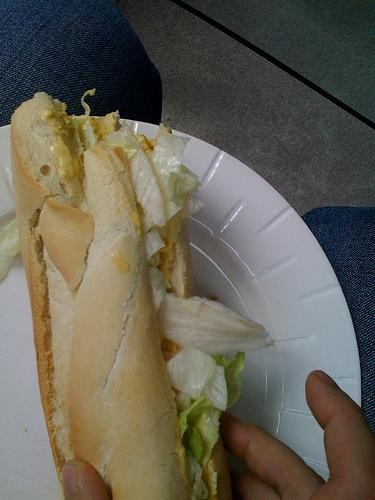lettuce: (156, 293, 276, 357), (156, 192, 206, 288), (179, 392, 222, 472), (150, 134, 191, 205), (168, 344, 218, 400), (202, 365, 227, 412), (175, 165, 201, 198), (143, 227, 166, 263), (148, 266, 165, 292)
